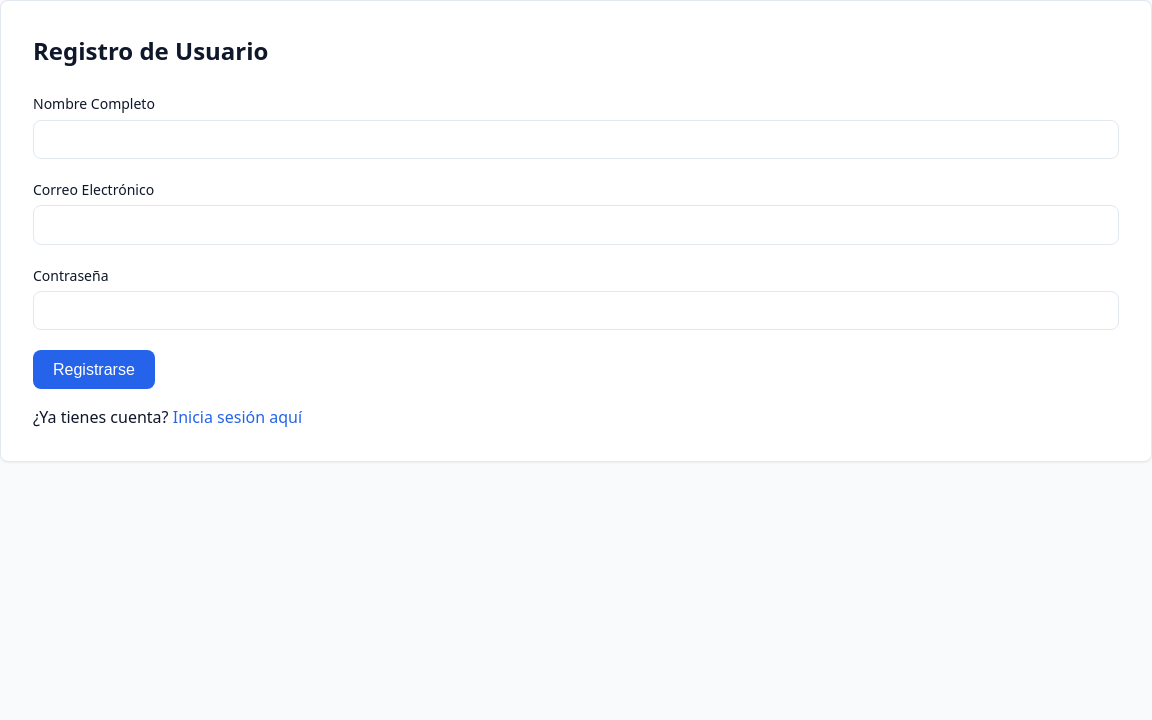
Test case: RegisterPage › ejecuta registro exitoso y muestra mensaje de éxito
The image size is (1152, 720).
Type "Juan Perez" into the field labelled "Nombre Completo" at (576, 139), box [33,120,1119,159]
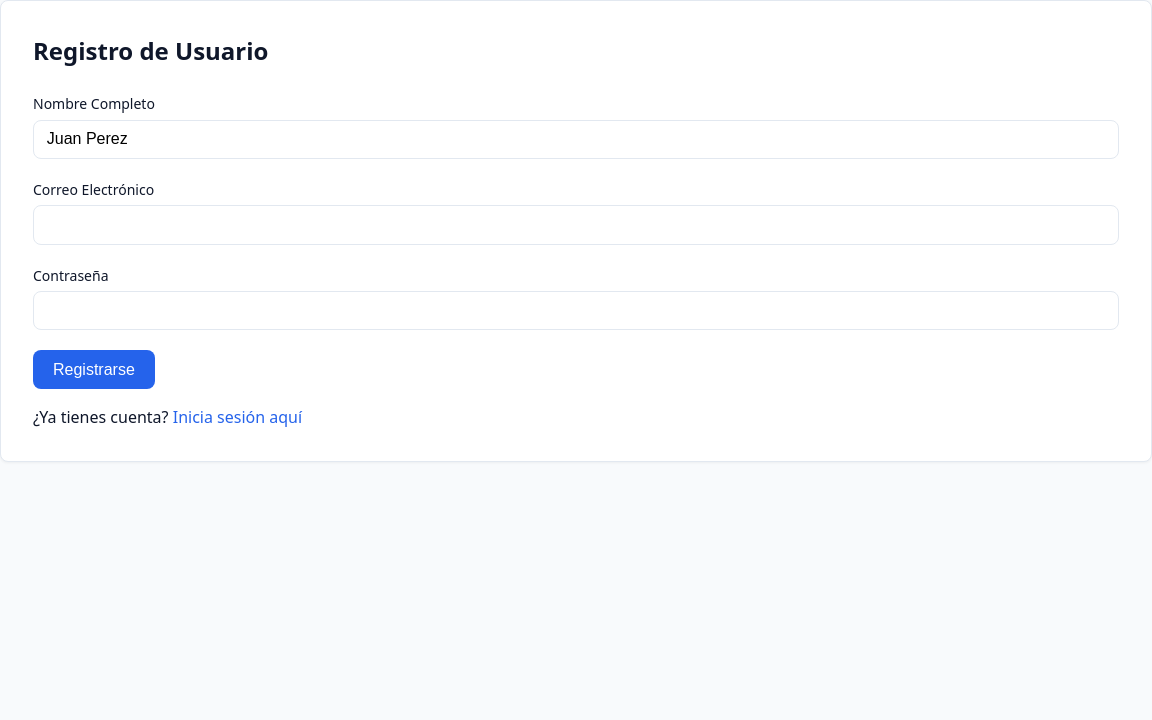
Type "juan@test.com" into the field labelled "Correo Electrónico" at (576, 225), box [33,205,1119,245]
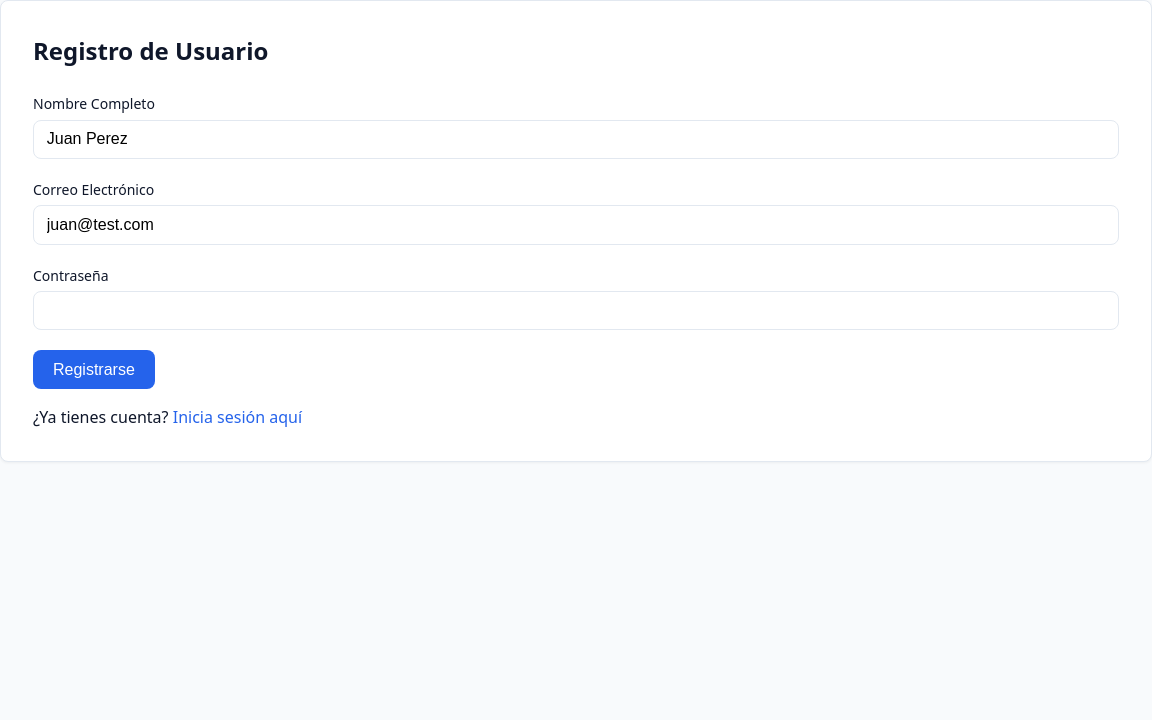
Type "password123" into the password field labelled "Contraseña" at (576, 311), box [33,291,1119,330]
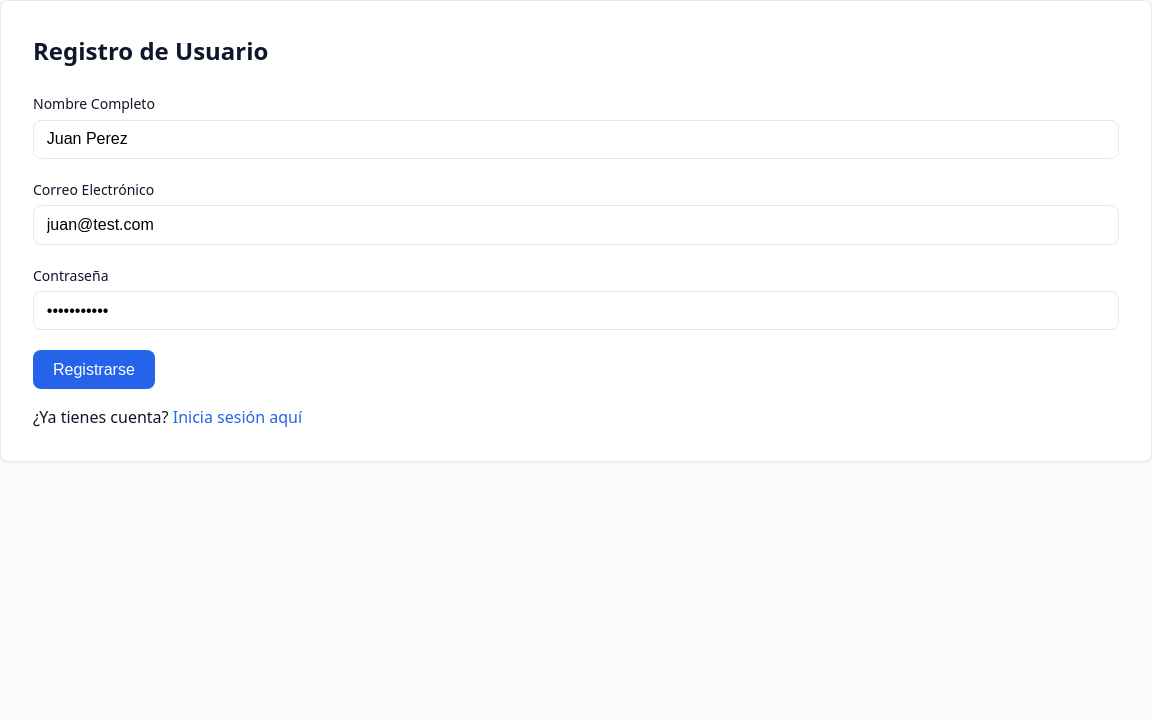
Click the button "Registrarse" at (94, 370), box [33,350,155,389]
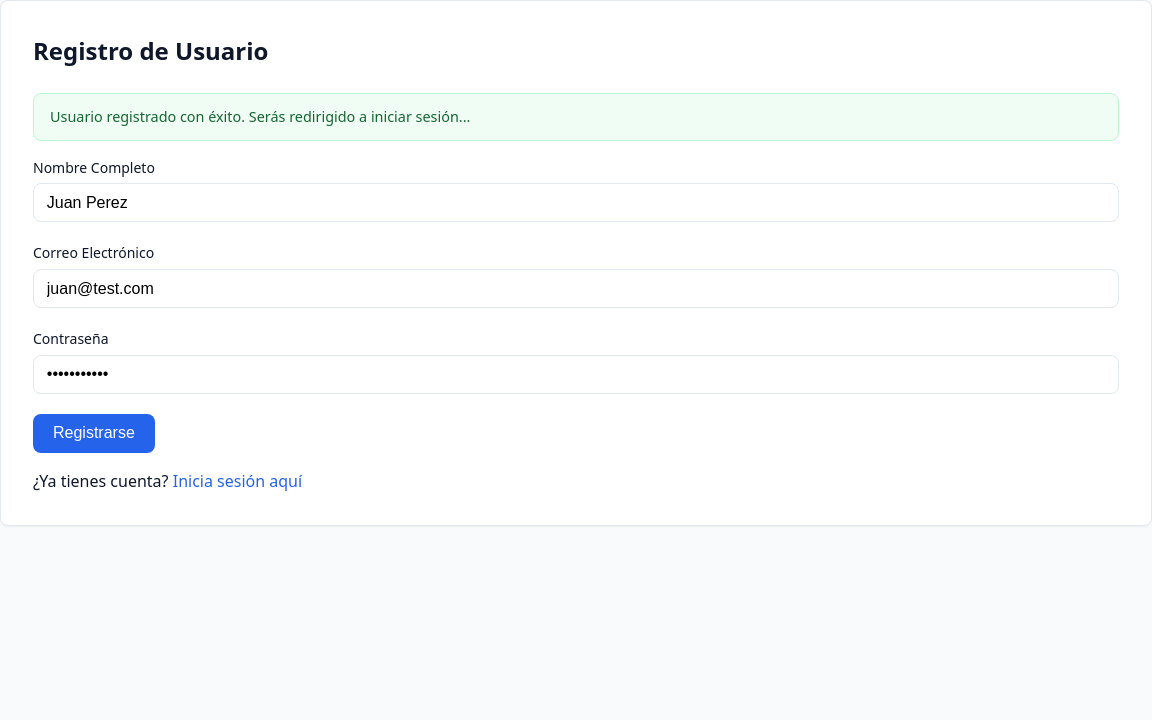
Result: the text "Usuario registrado con éxito. Serás redirigido a iniciar sesión..." is shown at [33,93,1119,141]
